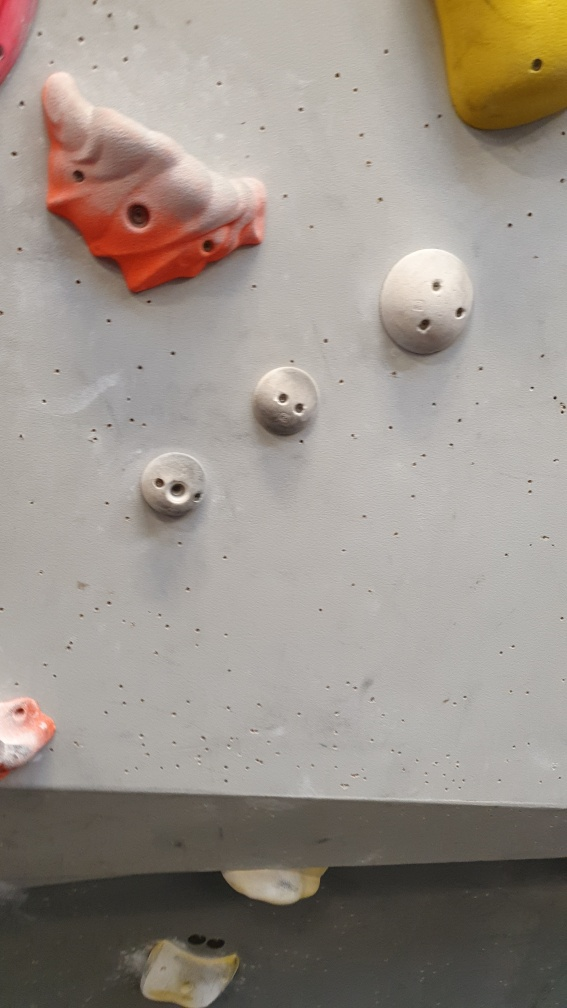Hand Start: (203, 934, 230, 954), (187, 928, 205, 949)
Jug: (36, 68, 272, 304)
Sloper: (379, 245, 477, 360), (247, 362, 322, 443), (138, 452, 209, 521)
